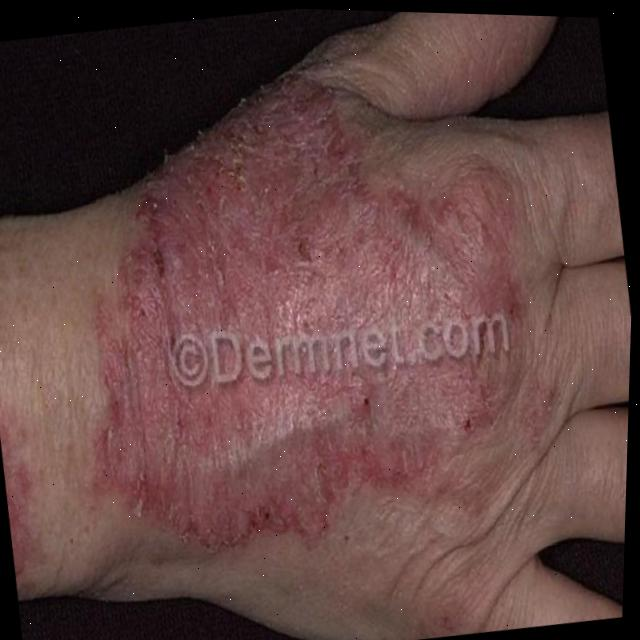Eczema: (77, 107, 564, 611)
